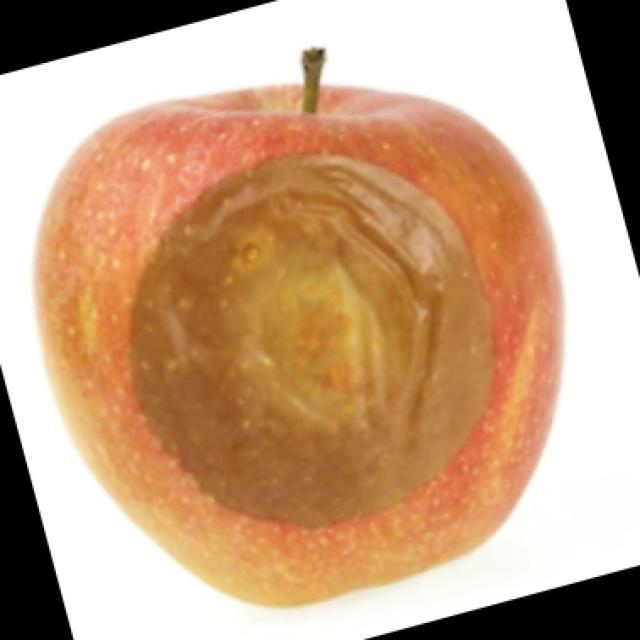Rotten: (32, 70, 566, 604)
